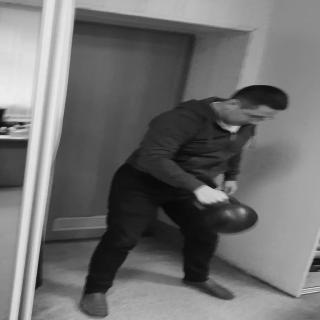kettlebell: (194, 191, 261, 235)
